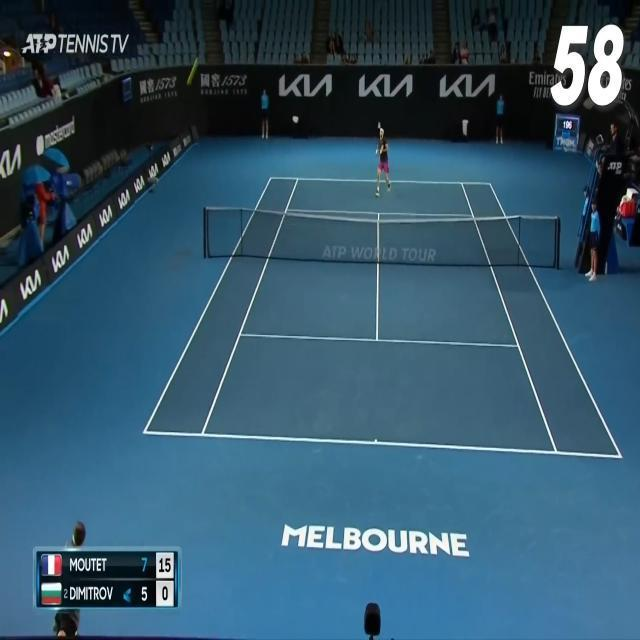court: (142, 176, 623, 460)
net: (203, 205, 562, 269)
